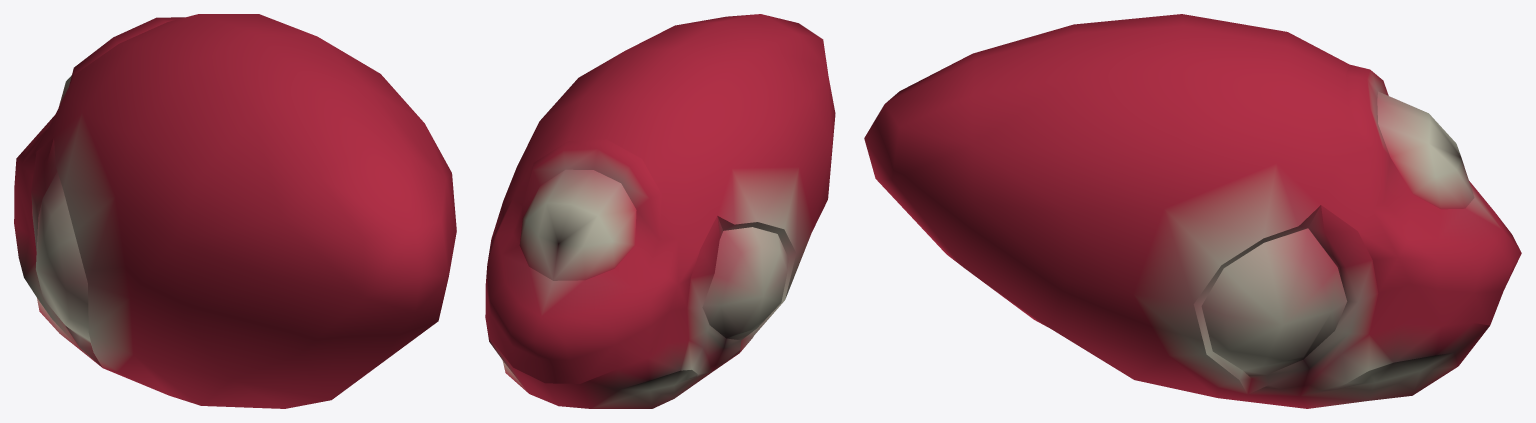
Rendered from S12_Beast04_L2_Tail.glb.
The picture shows the model from 3 angles, left to right: view 1: azimuth 30°, elevation 25°; view 2: azimuth 150°, elevation 25°; view 3: azimuth 270°, elevation 25°; orthographic projection. The views are drawn at different scales.
Parts seen in each view (by area): view 1: S12_Beast04_L2_Tail__Tail_M__surface0__lod0; view 2: S12_Beast04_L2_Tail__Tail_M__surface0__lod0; view 3: S12_Beast04_L2_Tail__Tail_M__surface0__lod0.
Boxes of the visible parts, bbox=[...] form: S12_Beast04_L2_Tail__Tail_M__surface0__lod0: bbox=[14, 14, 456, 408]; S12_Beast04_L2_Tail__Tail_M__surface0__lod0: bbox=[485, 14, 835, 408]; S12_Beast04_L2_Tail__Tail_M__surface0__lod0: bbox=[864, 14, 1521, 408].
Size of the model in its own units: 0.2727 by 0.3021 by 0.4934.
